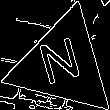N_S: (37, 34, 89, 94)
